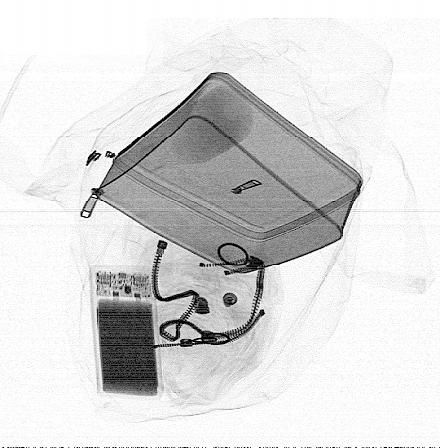Powerbank: (90, 264, 165, 399)
